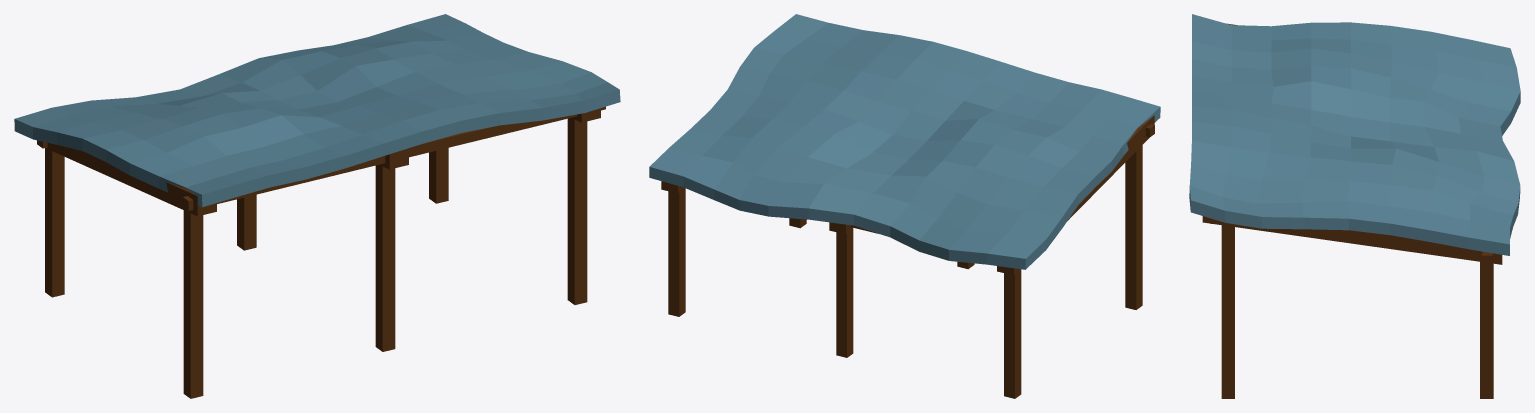
Rendered from Smithworkshop.fbx.
3 renders of one model, left to right at view 1: azimuth 30°, elevation 25°; view 2: azimuth 150°, elevation 25°; view 3: azimuth 270°, elevation 25°, orthographic. The views are drawn at different scales.
Visible parts, largest first — view 1: Roof; view 2: Roof; view 3: Roof.
Boxes of the visible parts, x1,y1,x2,y2 form: Roof: (14, 14, 620, 398); Roof: (649, 14, 1160, 398); Roof: (1189, 14, 1520, 398).
Bounding box in the file's own units: 931 × 453 × 641.
